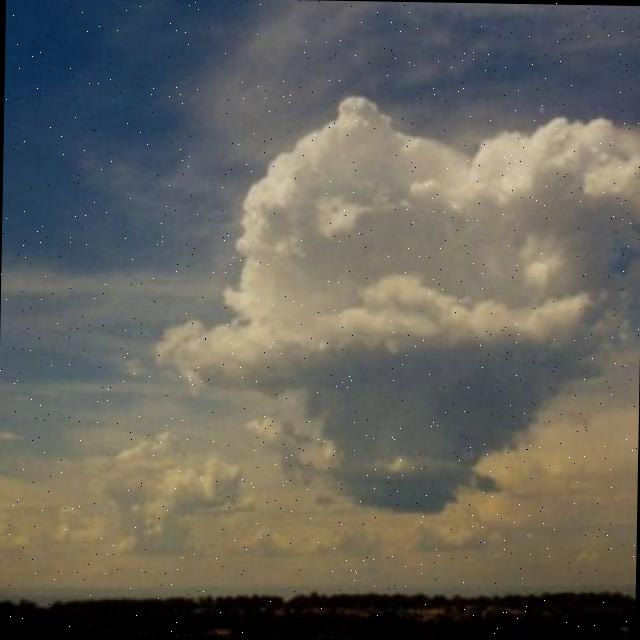Cu: (1, 24, 640, 558)
